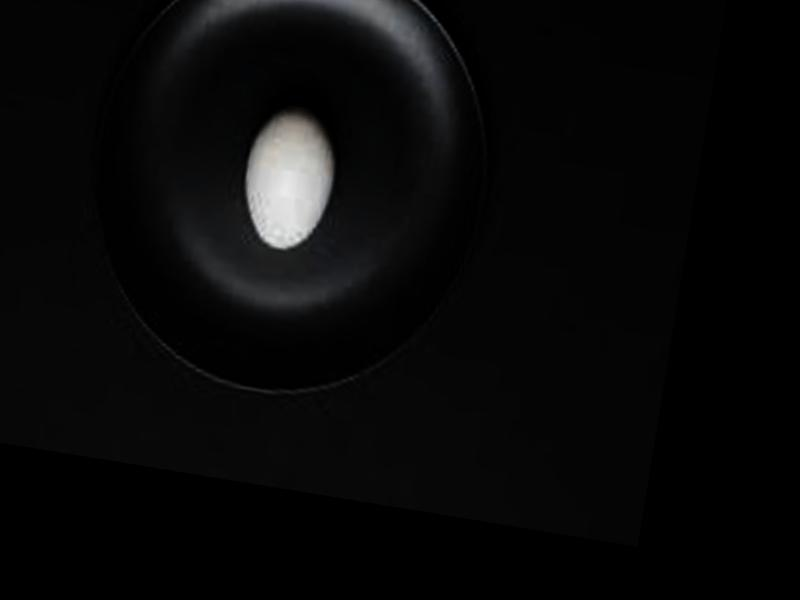Eggs: (234, 101, 345, 255)
